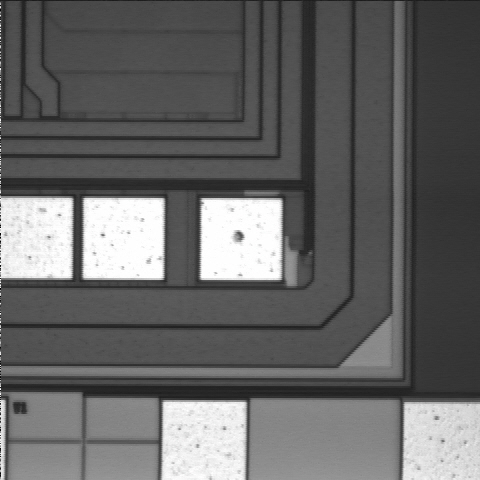pad: (200, 198, 282, 280), (83, 198, 164, 280)
